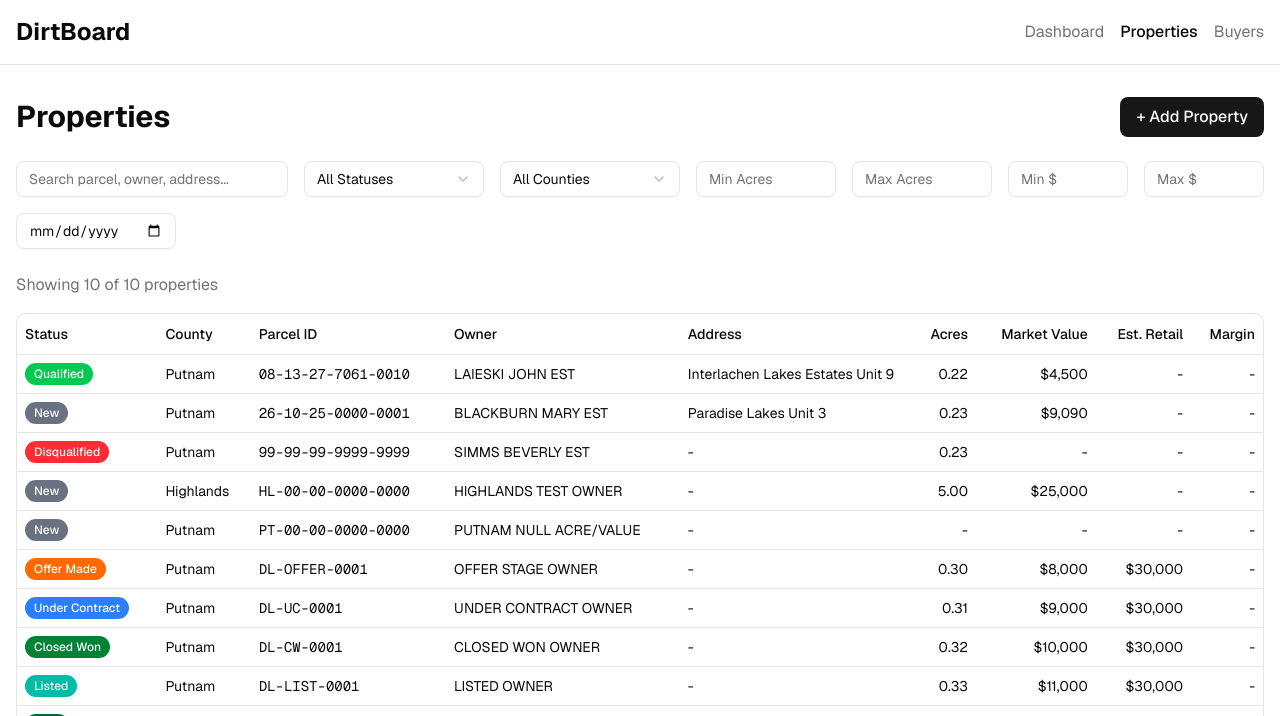
Test: Properties Page › filters properties by maximum acreage
Type "0.22" into the number field with placeholder "Max Acres" at (922, 179), box x1=852 y1=161 x2=992 y2=197
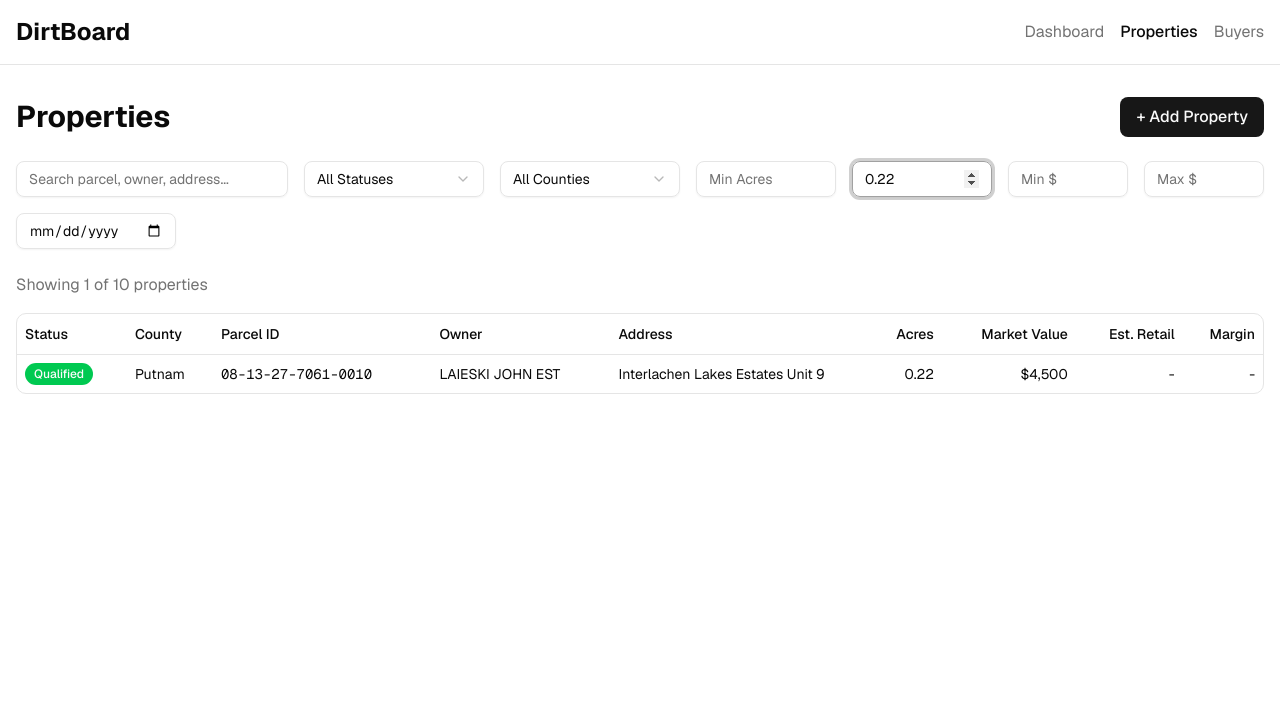
expect the text "LAIESKI JOHN EST" is shown: met, box x1=432 y1=354 x2=610 y2=392
expect the text "BLACKBURN MARY EST" is gone: met
expect the text "HIGHLANDS TEST OWNER" is gone: met
